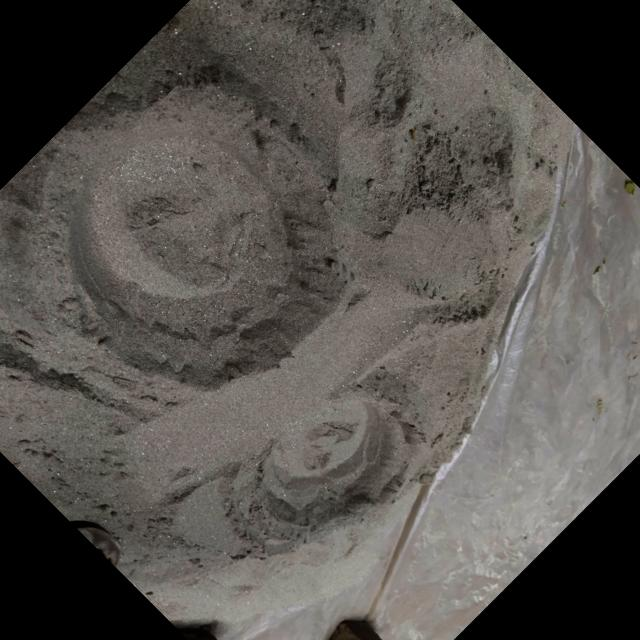C20: (59, 87, 316, 385), (260, 395, 402, 527)
